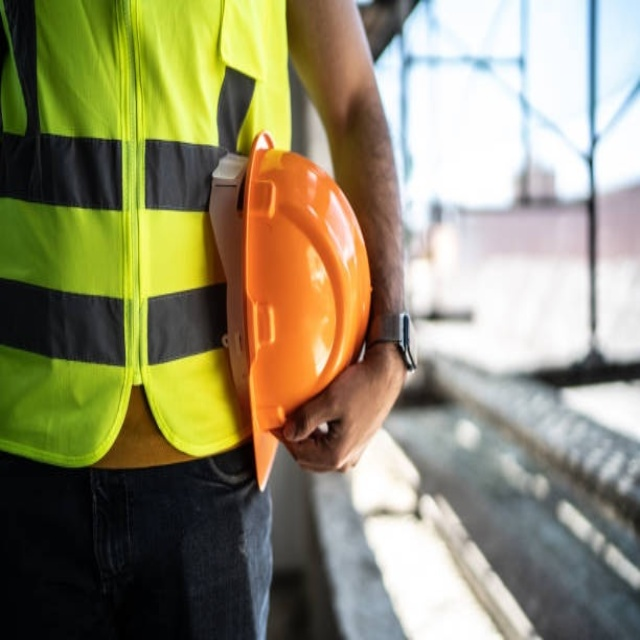Sin_guantes: (274, 339, 402, 475)
